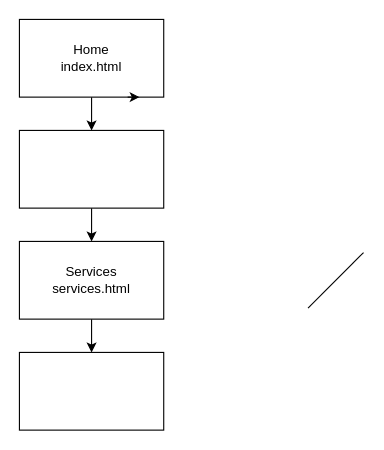
Some shapes in this 384 by 450 pixel diagram are drawn without their labels. Each missing label, with the centre of its shape:
"About Uspages/about.html" belongs at [91,168].
"Contact contact.html" belongs at [91,390].
